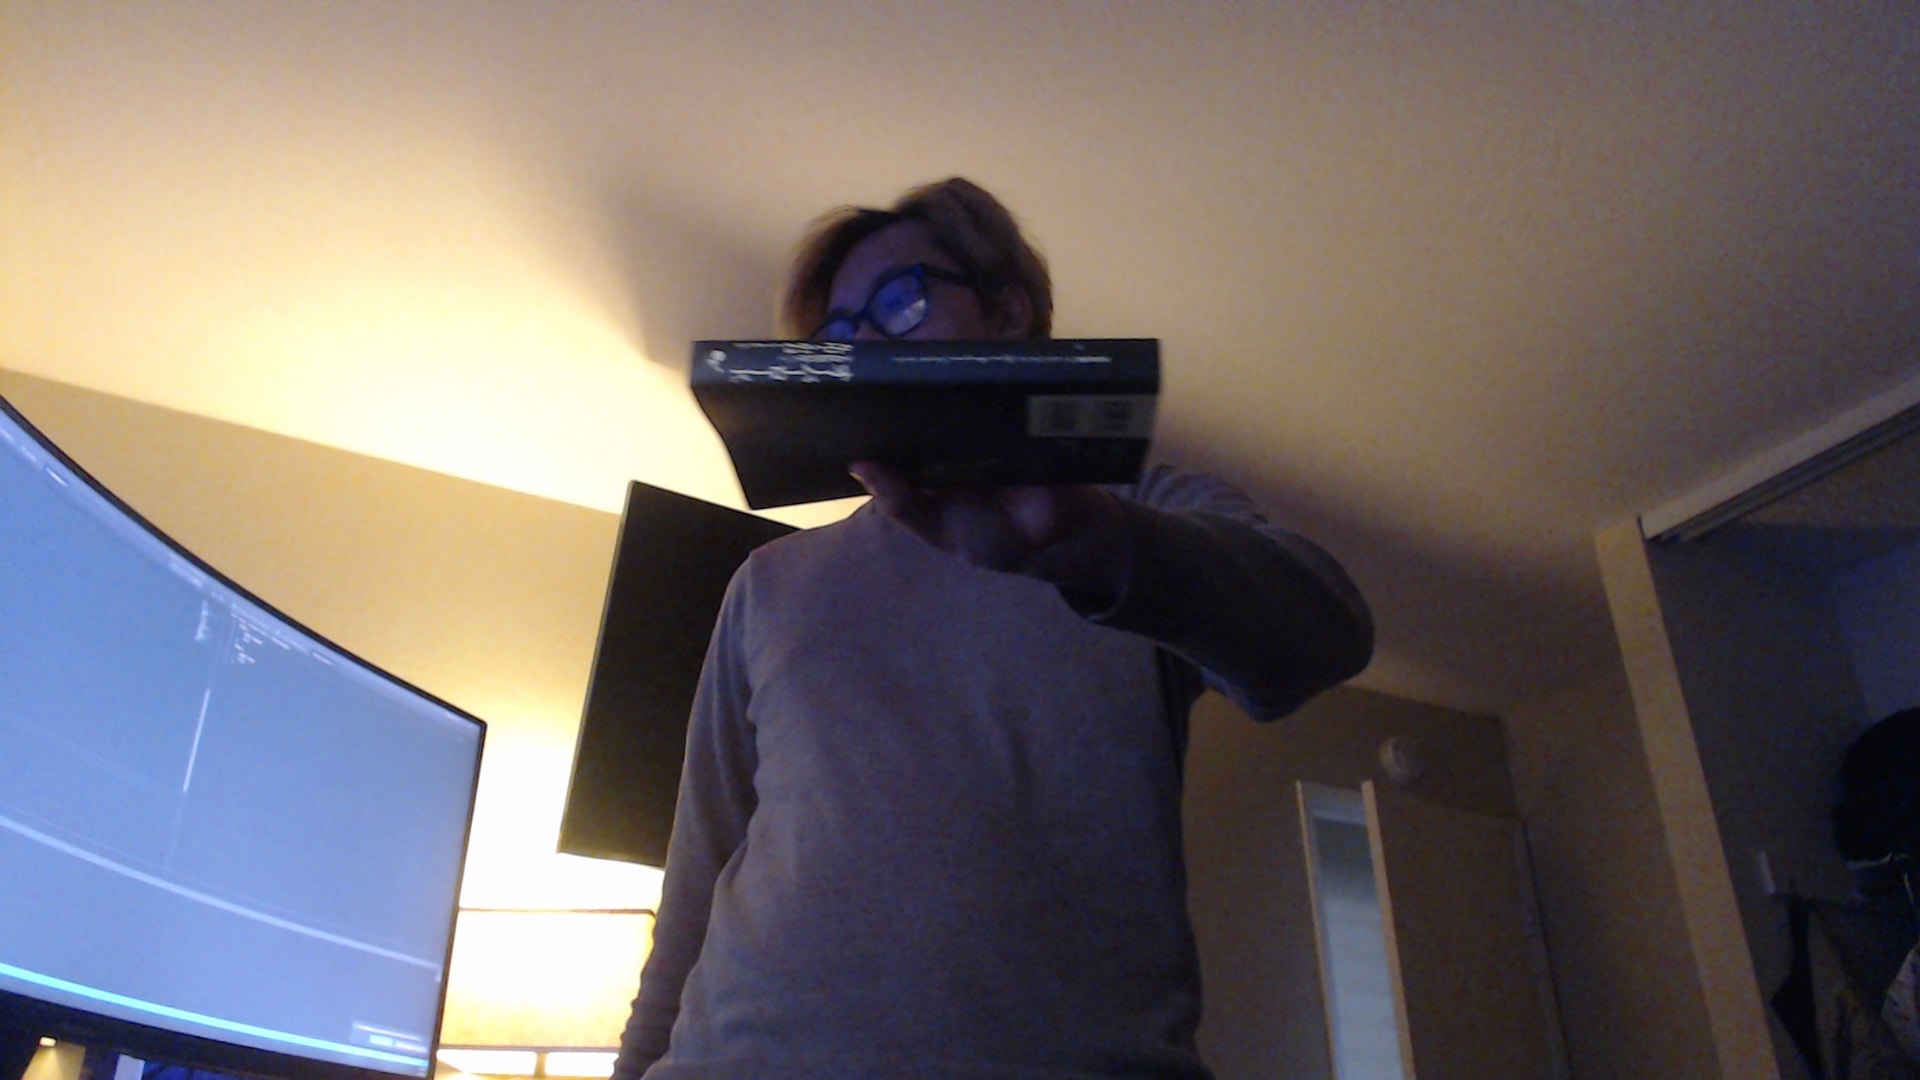book: (688, 336, 1159, 496)
